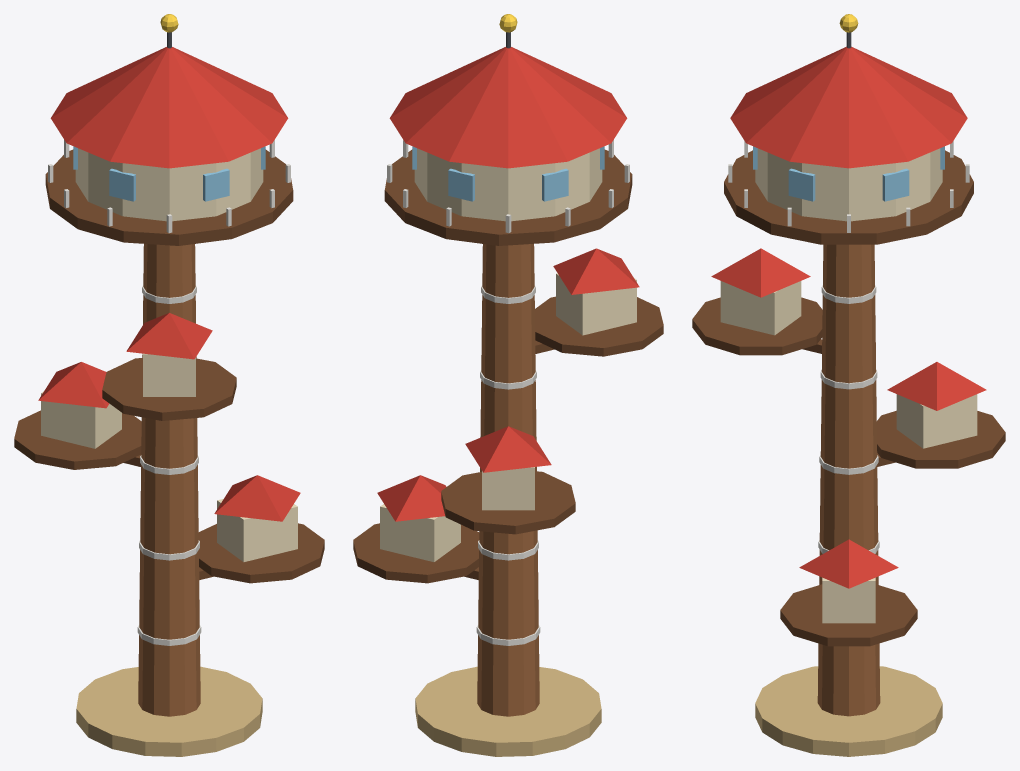
Rendered from SkyRoost.fbx.
3 views of the same model, side by side, from view 1: azimuth 30°, elevation 25°; view 2: azimuth 150°, elevation 25°; view 3: azimuth 270°, elevation 25° (orthographic).
Visible parts, largest first — view 1: SkyRoost; view 2: SkyRoost; view 3: SkyRoost.
Part boxes in pixels (left/top/right/bottom): SkyRoost: left=14, top=14, right=324, bottom=756; SkyRoost: left=353, top=14, right=663, bottom=756; SkyRoost: left=692, top=14, right=1005, bottom=756.
Bounding box in the file's own units: 518 × 1389 × 562.
